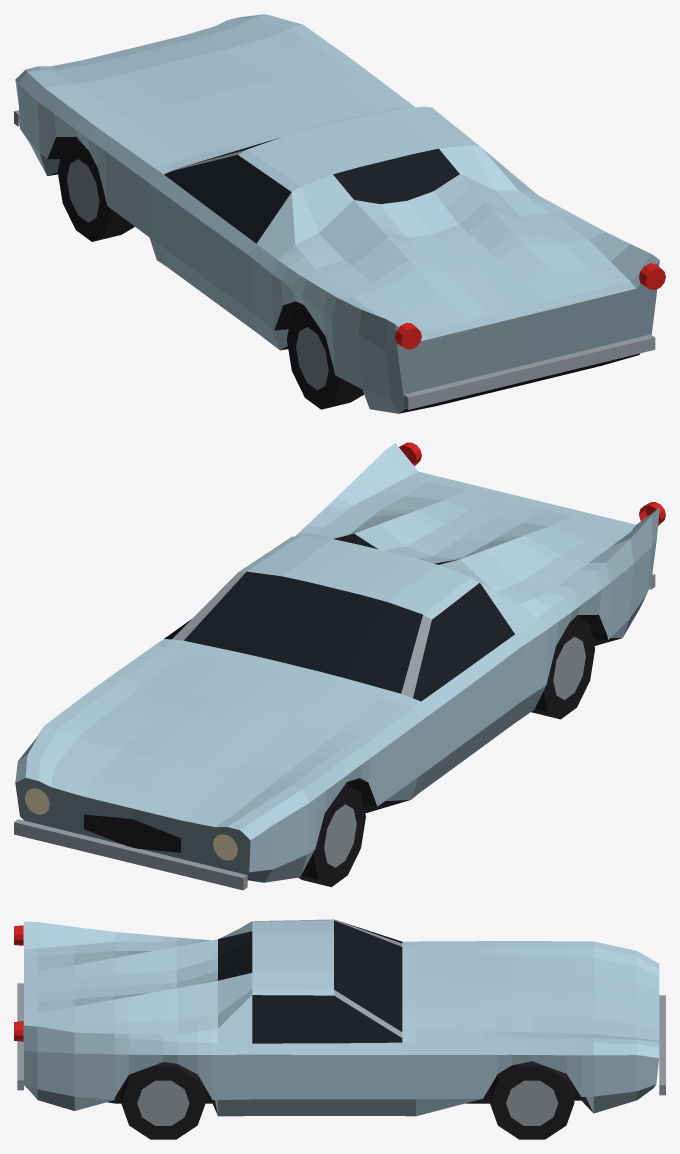
Rendered from coastliner_lod1.glb.
The picture shows the model from 3 angles, top to bottom: view 1: azimuth 30°, elevation 25°; view 2: azimuth 150°, elevation 25°; view 3: azimuth 270°, elevation 25°; orthographic projection. The views are drawn at different scales.
Visible parts, largest first — view 1: Body; view 2: Body; view 3: Body.
Part boxes in pixels (box(x1,y1,x2,y2)): Body: box(14, 14, 665, 413); Body: box(14, 442, 665, 890); Body: box(14, 919, 665, 1139).
Size of the model in its own units: 1.9 by 1.11 by 4.77.
